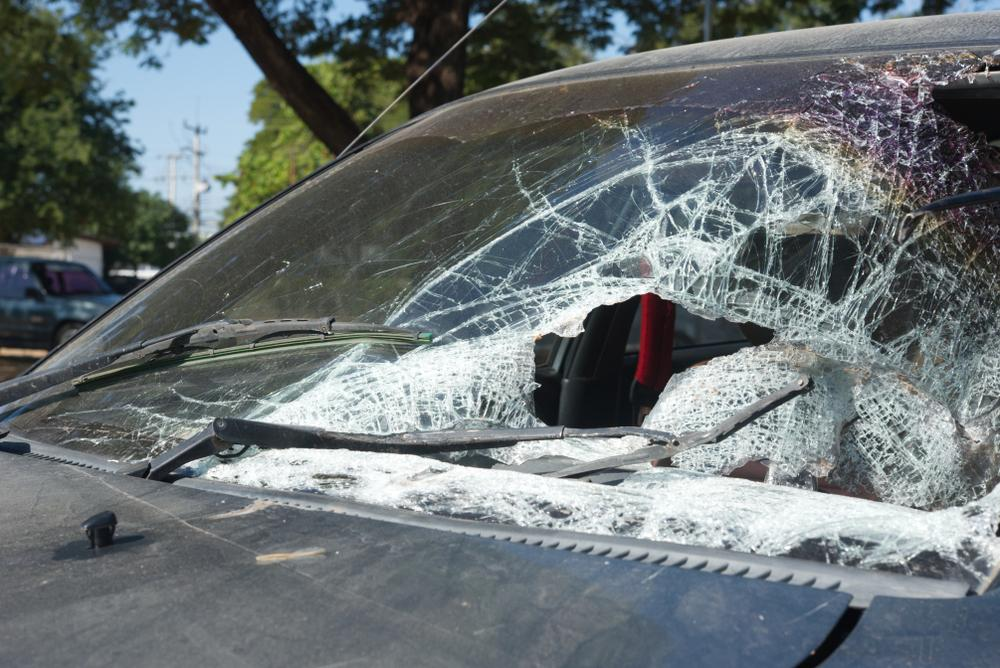glass shatter: (0, 43, 1000, 588)
